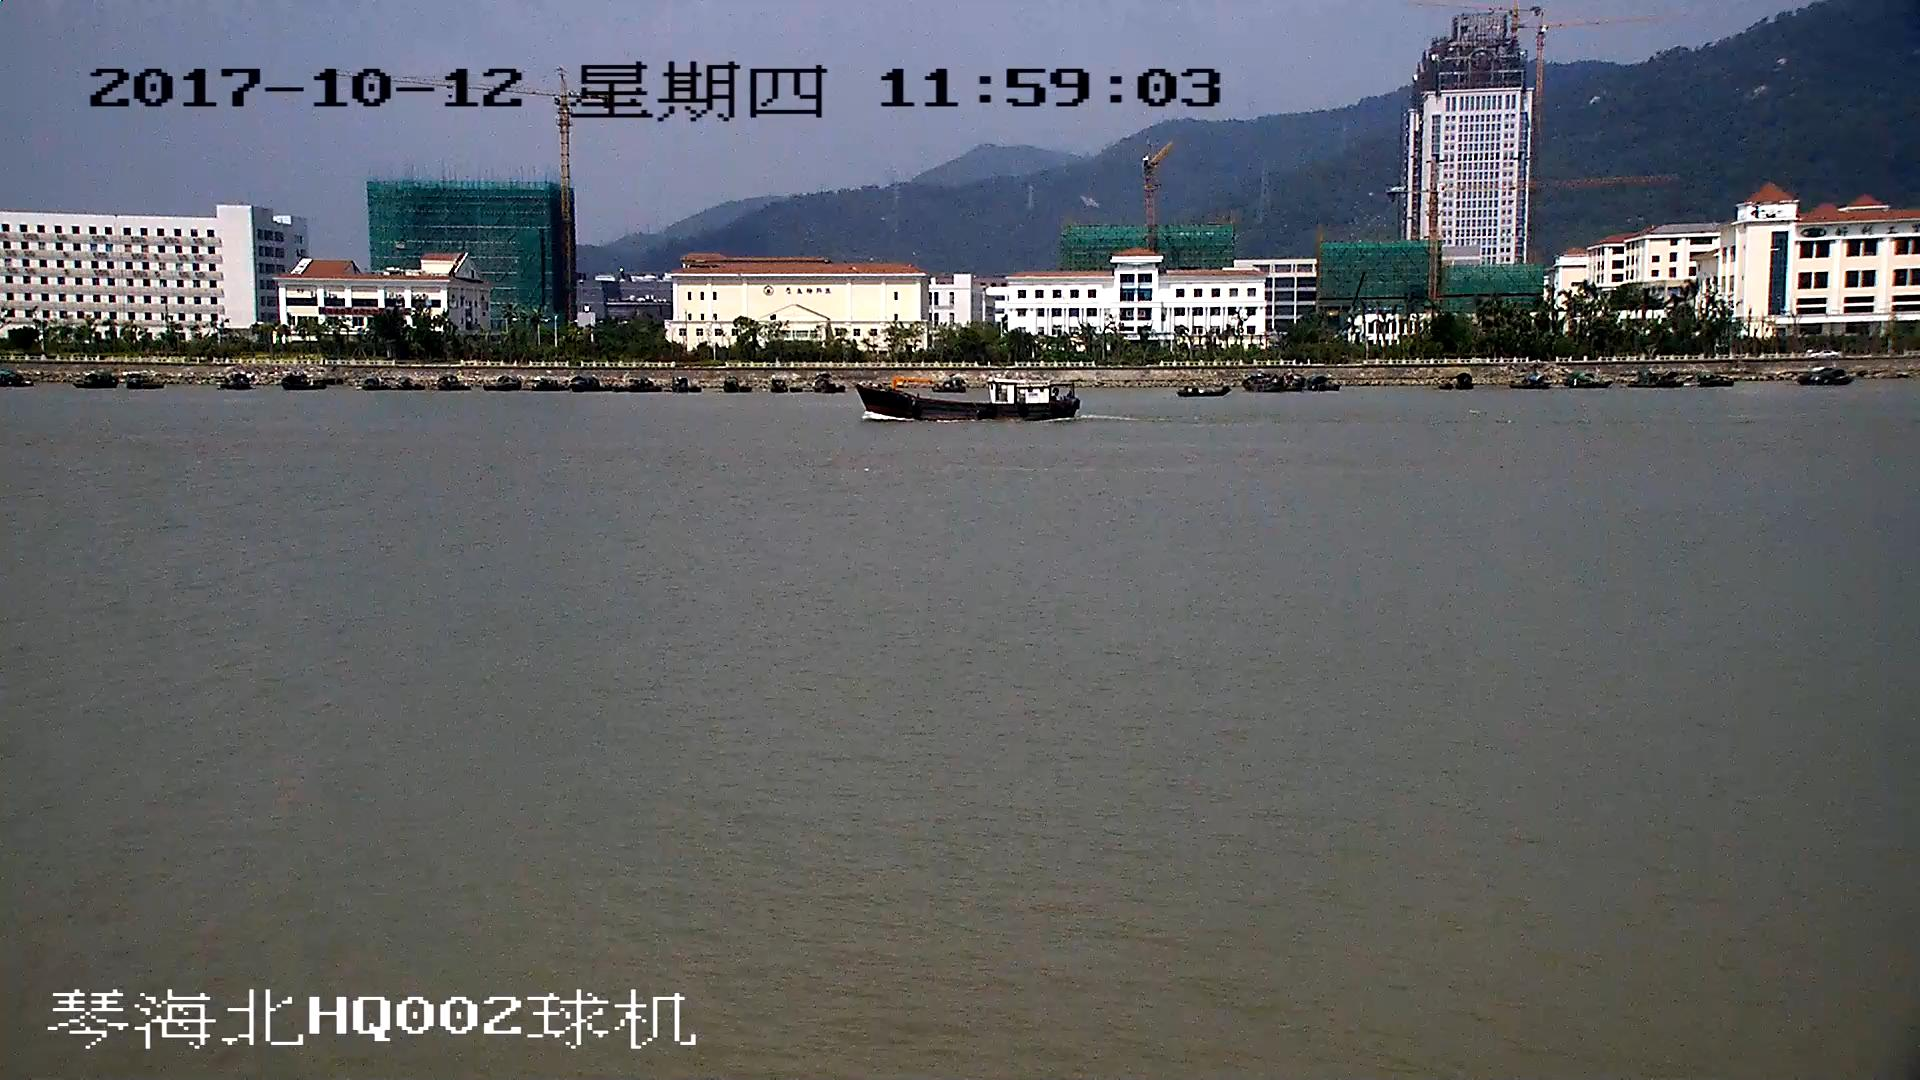fishing boat: (855, 377, 1073, 419)
